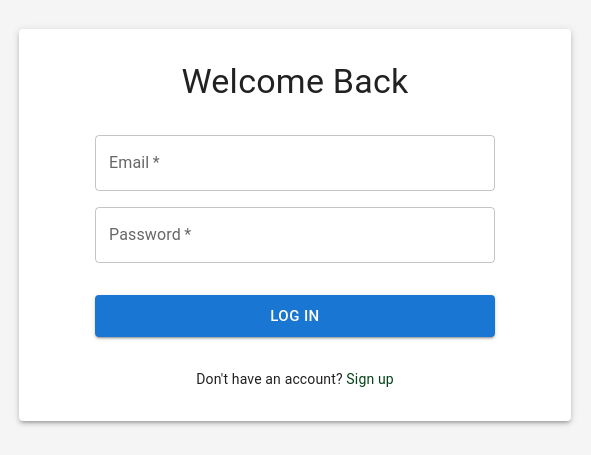
Test: Auth Integration - Login › shows validation error for short password
Step 1. Type "test@example.com" into the field labelled "Email *" → (295, 163), box [95,135,495,191]
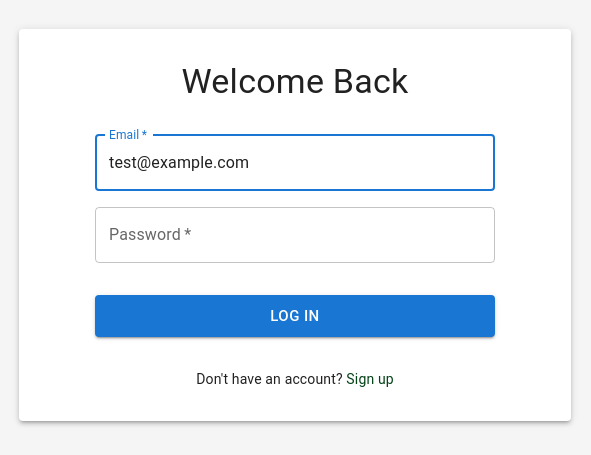
Step 2. Type "abc" into the password field labelled "Password *" → (295, 235), box [95,207,495,263]
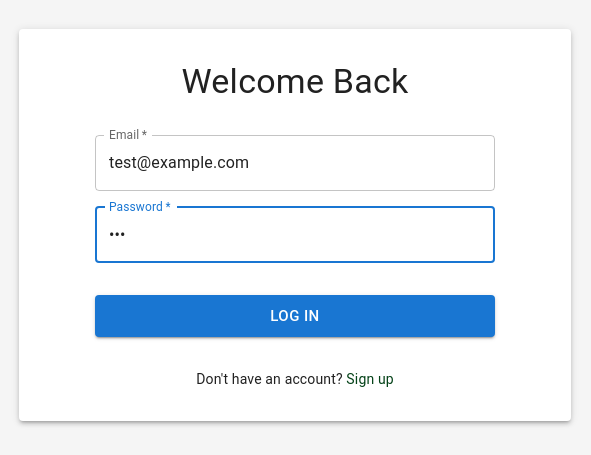
Step 3. Click the button "Log In" → (295, 316), box [95,295,495,337]
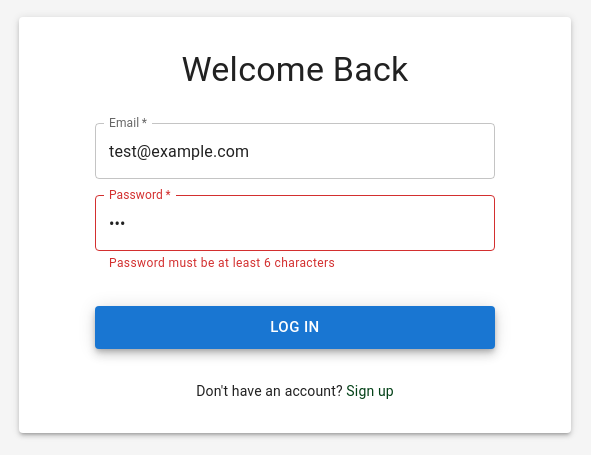
Expected: the text "Password must be at least 6 characters" is shown, [109,256,335,270]
